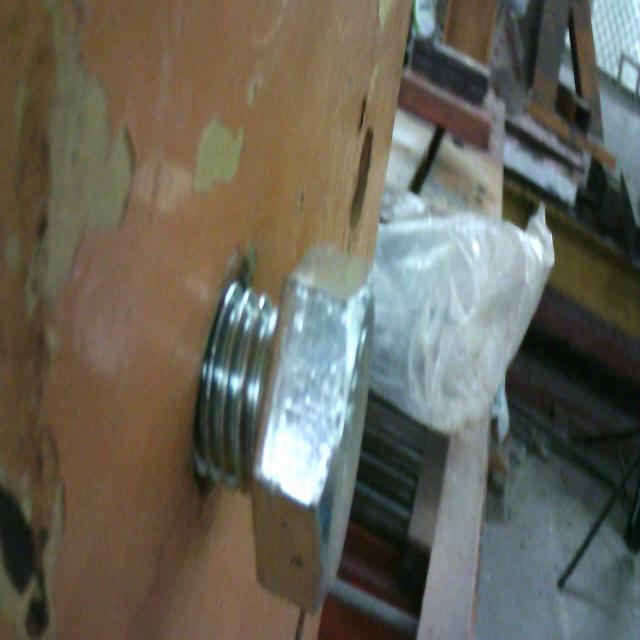Loose bolt: (193, 242, 380, 614)
Missing bolt: (350, 130, 376, 233)
Regular bolt: (206, 256, 378, 604)
